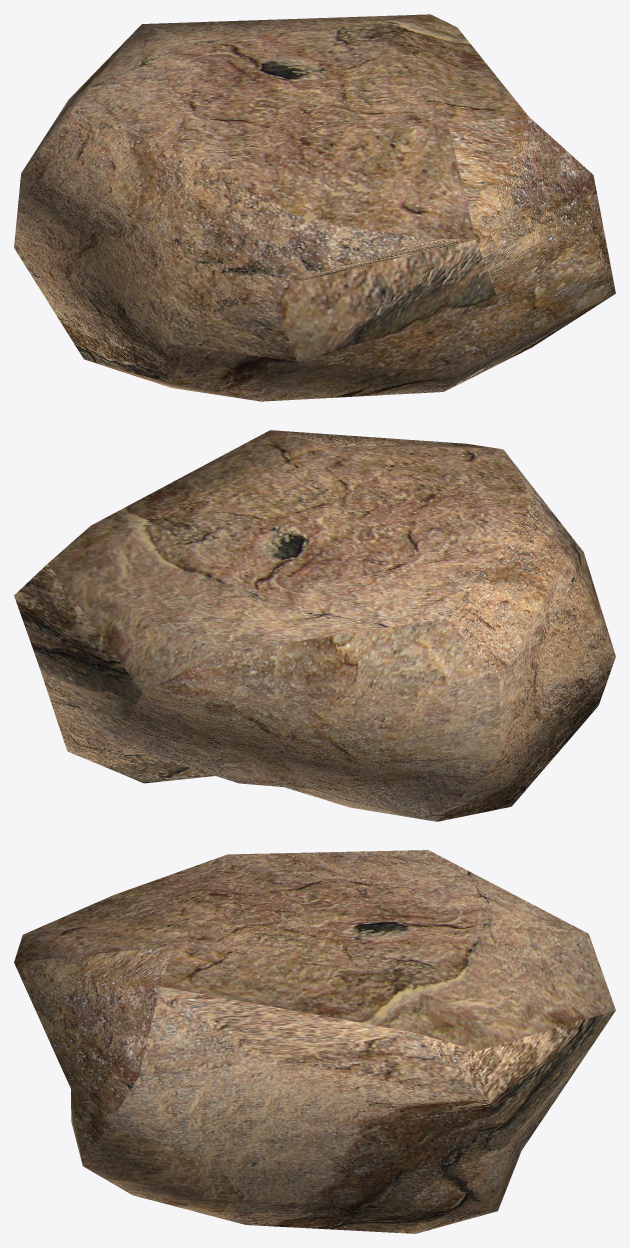
Rendered from Rock1_50.obj.
The picture shows the model from 3 angles, top to bottom: view 1: azimuth 30°, elevation 25°; view 2: azimuth 150°, elevation 25°; view 3: azimuth 270°, elevation 25°; orthographic projection. The views are drawn at different scales.
Parts seen in each view (by area): view 1: Cube; view 2: Cube; view 3: Cube.
Boxes of the visible parts, <box> form: Cube: <box>14,14,615,401</box>; Cube: <box>14,430,615,821</box>; Cube: <box>14,850,615,1233</box>.
Size of the model in its own units: 3.21 by 1.71 by 3.63.
